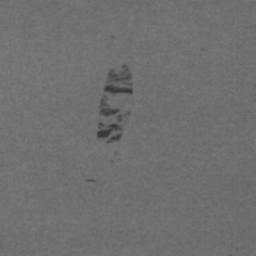Secondary rust skin: (96, 97, 123, 144), (103, 63, 134, 96), (85, 178, 97, 183)
